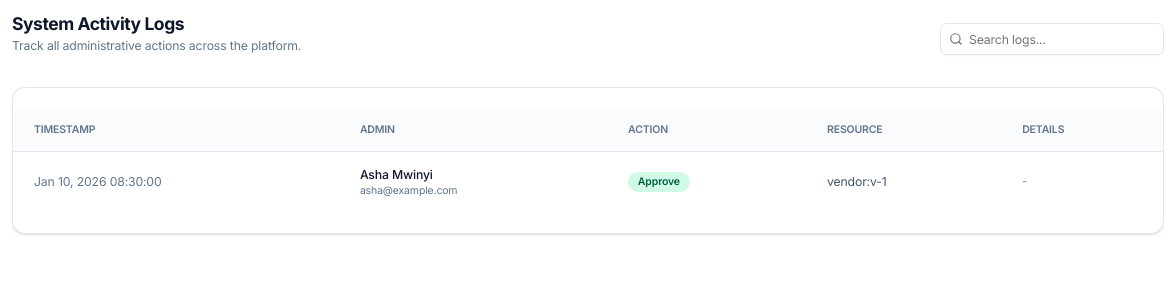
Test: ActivityLogsTab › shows the empty state when the search term matches nothing
Expected: the text "Asha Mwinyi" is shown, [360,167,433,182]
In the search field with placeholder "Search logs...": (1052, 39) [940,23,1164,55], type "no-such-term"
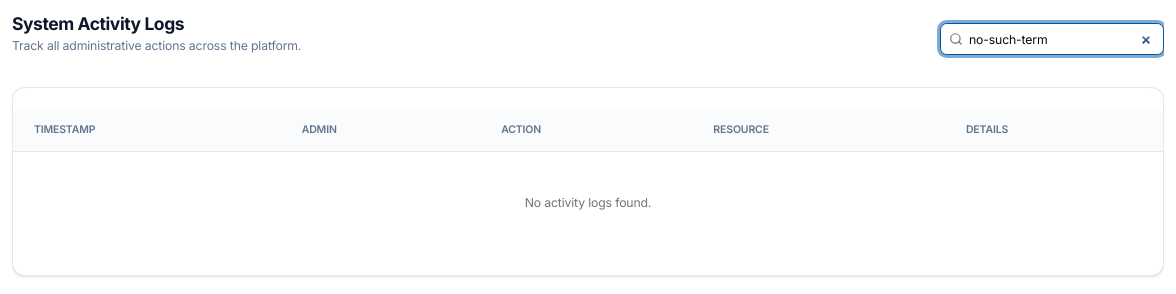
Now the text "No activity logs found." is shown, box [13,152,1163,254]
